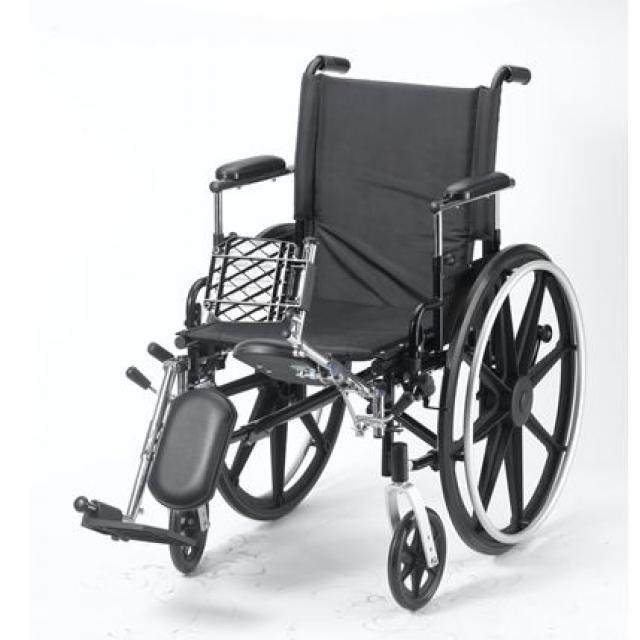wheelchair: (74, 38, 596, 618)
